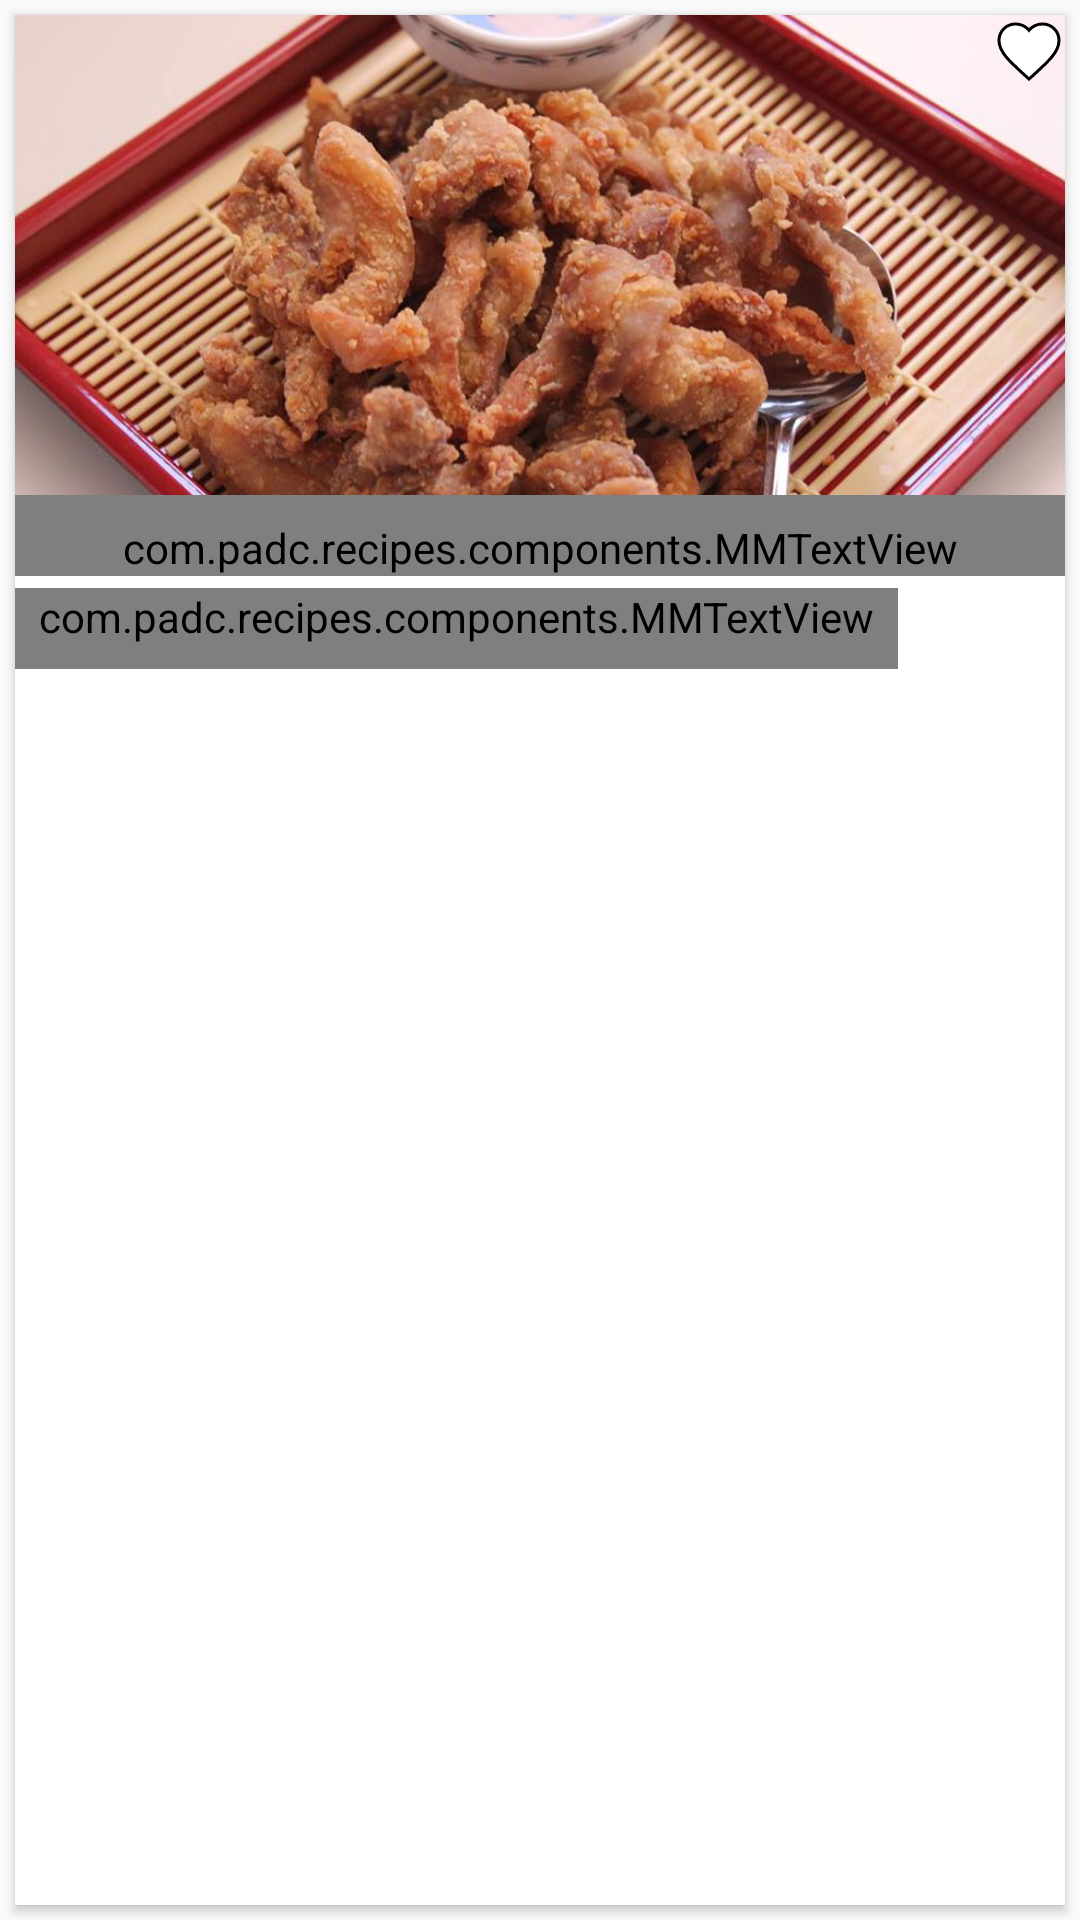

Named icons in this screenshot (1080×1920) and their centers, [x,y]:
favorite border: [1029,51]
